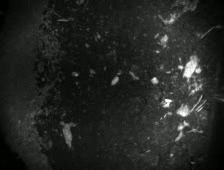corn: (107, 75, 120, 87), (67, 69, 80, 78)
